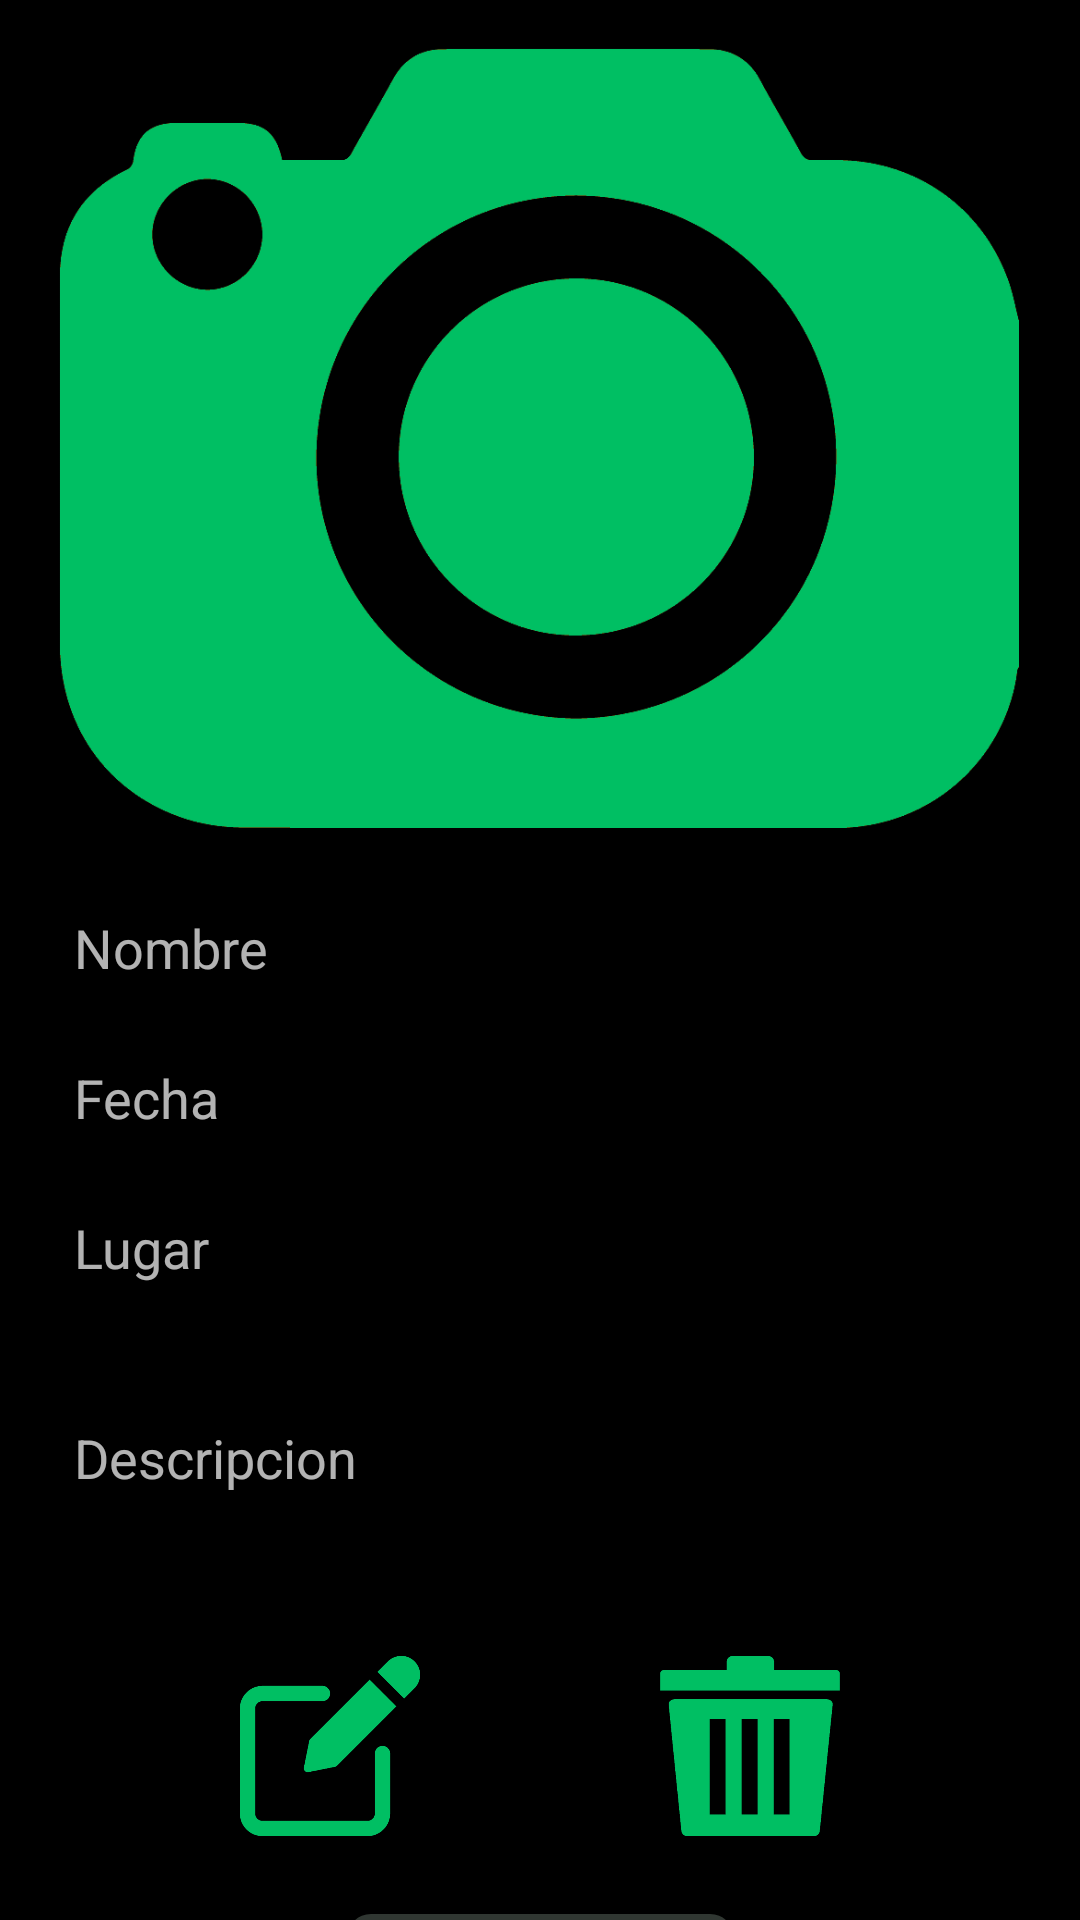

Where icons sit on this 1080×1920 app screen, as (x1, y1, x2, y2):
delete: (660, 1656, 840, 1836)
